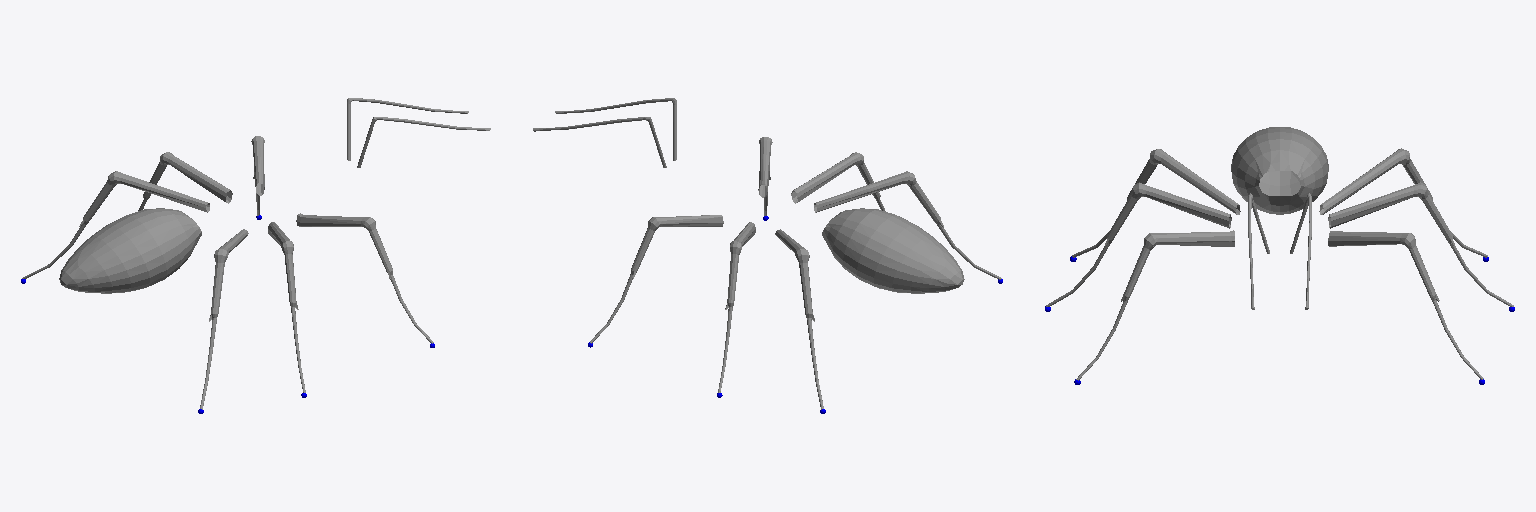
--- Facts derived from the render (not from the file) ---
Views: 3 orthographic renders of the robot side by side, from view 1: azimuth 30°, elevation 25°; view 2: azimuth 150°, elevation 25°; view 3: azimuth 270°, elevation 25°.
Robot: articulated_ant — 73 links, 72 joints (54 revolute, 18 fixed); root link base_link; default pose: every joint at zero.
Links seen in each view (by area): view 1: Abdomen, LBThigh, LMThigh, RFThigh, LFThigh, RBShank; view 2: Abdomen, RBThigh, RMThigh, LFThigh, RFThigh, LBShank; view 3: Abdomen, RMThigh, LMThigh, LBThigh, RBThigh, RFThigh, LFThigh.
Boxes of the visible links, x1,y1,x2,y2 form: Abdomen: (59,208,201,293); LBThigh: (109,171,209,212); LMThigh: (160,152,232,203); RFThigh: (296,213,374,227); LFThigh: (251,136,264,195); RBShank: (210,255,227,316); Abdomen: (822,208,964,293); RBThigh: (814,171,914,212); RMThigh: (791,152,863,203); LFThigh: (649,215,723,227); RFThigh: (758,137,772,197); LBShank: (796,255,813,316); Abdomen: (1231,127,1328,214); RMThigh: (1133,182,1231,228); LMThigh: (1328,182,1426,228); LBThigh: (1319,148,1409,214); RBThigh: (1150,149,1240,214); RFThigh: (1145,230,1234,246); LFThigh: (1328,231,1414,246).
Bounding box of the posed robot: 0.8425 × 0.7066 × 0.3466 m (x, y, z).
23 mesh visuals loaded from 25 distinct referenced files (23 binary STL); not drawn: 2 (reference not matched to a file when rendering).

The robot description file, URDF, robot "articulated_ant":
<?xml version="1.0"?>
<robot name="articulated_ant">

  <material name="Blue"> <!-- for spheres -->
    <color rgba="0 0 1 0.5"/>
  </material>
  <material name="White">
    <color rgba="1 1 1 1"/>
  </material>
  <material name="Gray">
    <color rgba="0.6 0.6 0.6 1"/>
  </material>
  <material name="Green">
    <color rgba="0 0.9 0 0.4"/>
  </material>

  <link name="base_link"/>
  <joint name="base_link_J" type="fixed">
      <parent link="base_link"/>
      <child link="Thorax"/>
      <origin rpy="0 0 1.570796" xyz="0 0 0"/>
   </joint>

  <link name="virtualThorax"/> <!-- for Blender Armature export -->
  <joint name="virtualThorax" type="fixed">
      <parent link="base_link"/>
      <child link="virtualThorax"/>
      <origin rpy="0 0 0" xyz="0 0 0"/>
  </joint>

  <link name="Thorax">
      <inertial>
         <origin rpy="0 0 0" xyz="0 0 0"/>
         <mass value="2"/>
         <inertia ixx="0" ixy="0" ixz="0" iyy="0" iyz="0" izz="0"/>
      </inertial>
      <visual>
         <origin xyz="0 0 0" rpy="0 0 0"/>
         <geometry>
            <mesh filename="package://hpp-rbprm-corba/meshes/ant/Thorax.stl"/>
         </geometry>
         <material name="Gray"/>
      </visual>
      <collision>
         <origin xyz="0 0 0" rpy="0 0 0"/>
         <geometry>
            <mesh filename="package://hpp-rbprm-corba/meshes/ant/Thorax.stl"/>
         </geometry>
      </collision>
   </link>

   <!--<joint name="thorax_foot_rom_joint" type="fixed">
      <parent link="Thorax"/>
      <child link="thorax_foot_rom"/>
      <origin rpy="0 0 0" xyz="0 0 0"/>
   </joint>

  <link name="thorax_foot_rom">
      <visual>
         <origin xyz="0 0 0" rpy="0 0 0"/>
         <geometry>
            <mesh filename="package://hpp-rbprm-corba/meshes/ant/rbfoot_rom.stl"/>
         </geometry>
         <material name="Green"/>
      </visual>
   </link>-->

   <link name="Abdomen_rx"/>
   <link name="Abdomen_ry"/>
   <link name="Abdomen">
      <inertial>
         <origin rpy="0 0 0" xyz="0 0 0"/>
         <mass value="1.5"/>
         <inertia ixx="0" ixy="0" ixz="0" iyy="0" iyz="0" izz="0"/>
      </inertial>
      <visual>
         <origin xyz="0 0 0" rpy="0 0 0"/>
         <geometry>
            <mesh filename="package://hpp-rbprm-corba/meshes/ant/Abdomen.stl"/>
         </geometry>
         <material name="Gray"/>
      </visual>
      <collision>
         <origin xyz="0 0 0" rpy="0 0 0"/>
         <geometry>
            <mesh filename="package://hpp-rbprm-corba/meshes/ant/Abdomen.stl"/>
         </geometry>
      </collision>
   </link>
   <link name="Head_rx"/>
   <link name="Head_ry"/>
   <link name="Head">
      <inertial>
         <origin rpy="0 0 0" xyz="0 0 0"/>
         <mass value="1.3"/>
         <inertia ixx="0.0071027" ixy="-0.00059867" ixz="-2.9564e-05" iyy="0.0046194" iyz="6.6519e-05" izz="0.0080488"/>
      </inertial>
      <visual>
         <origin xyz="0 0 0" rpy="0 0 0"/>
         <geometry>
            <mesh filename="package://hpp-rbprm-corba/meshes/ant/Skull.stl"/>
         </geometry>
         <material name="Gray"/>
      </visual>
      <collision>
         <origin xyz="0 0 0" rpy="0 0 0"/>
         <geometry>
            <mesh filename="package://hpp-rbprm-corba/meshes/ant/Skull.stl"/>
         </geometry>
      </collision>
   </link>

   <link name="LAntena">
      <inertial>
         <origin rpy="0 0 0" xyz="0 0 0"/>
         <mass value="0.05"/>
         <inertia ixx="0.0071027" ixy="-0.00059867" ixz="-2.9564e-05" iyy="0.0046194" iyz="6.6519e-05" izz="0.0080488"/>
      </inertial>
      <visual>
         <origin xyz="0 0 0" rpy="0 0 0"/>
         <geometry>
            <mesh filename="package://hpp-rbprm-corba/meshes/ant/LAntena.stl"/>
         </geometry>
         <material name="Gray"/>
      </visual>
      <collision>
         <origin xyz="0 0 0" rpy="0 0 0"/>
         <geometry>
            <mesh filename="package://hpp-rbprm-corba/meshes/ant/LAntena.stl"/>
         </geometry>
      </collision>
   </link>

   <link name="LAntenaFoot">
      <inertial>
         <origin rpy="0 0 0" xyz="0 0 0"/>
         <mass value="0.05"/>
         <inertia ixx="0.0071027" ixy="-0.00059867" ixz="-2.9564e-05" iyy="0.0046194" iyz="6.6519e-05" izz="0.0080488"/>
      </inertial>
      <visual>
         <origin xyz="0 0 0" rpy="0 0 0"/>
         <geometry>
            <mesh filename="package://hpp-rbprm-corba/meshes/ant/LAntenaFoot.stl"/>
         </geometry>
         <material name="Gray"/>
      </visual>
      <collision>
         <origin xyz="0 0 0" rpy="0 0 0"/>
         <geometry>
            <mesh filename="package://hpp-rbprm-corba/meshes/ant/LAntenaFoot.stl"/>
         </geometry>
      </collision>
   </link>
   
   <link name="RAntena">
      <inertial>
         <origin rpy="0 0 0" xyz="0 0 0"/>
         <mass value="0.05"/>
         <inertia ixx="0.0071027" ixy="-0.00059867" ixz="-2.9564e-05" iyy="0.0046194" iyz="6.6519e-05" izz="0.0080488"/>
      </inertial>
      <visual>
         <origin xyz="0 0 0" rpy="0 0 0"/>
         <geometry>
            <mesh filename="package://hpp-rbprm-corba/meshes/ant/RAntena.stl"/>
         </geometry>
         <material name="Gray"/>
      </visual>
      <collision>
         <origin xyz="0 0 0" rpy="0 0 0"/>
         <geometry>
            <mesh filename="package://hpp-rbprm-corba/meshes/ant/RAntena.stl"/>
         </geometry>
      </collision>
   </link>

   <link name="RAntenaFoot">
      <inertial>
         <origin rpy="0 0 0" xyz="0 0 0"/>
         <mass value="0.05"/>
         <inertia ixx="0.0071027" ixy="-0.00059867" ixz="-2.9564e-05" iyy="0.0046194" iyz="6.6519e-05" izz="0.0080488"/>
      </inertial>
      <visual>
         <origin xyz="0 0 0" rpy="0 0 0"/>
         <geometry>
            <mesh filename="package://hpp-rbprm-corba/meshes/ant/RAntenaFoot.stl"/>
         </geometry>
         <material name="Gray"/>
      </visual>
      <collision>
         <origin xyz="0 0 0" rpy="0 0 0"/>
         <geometry>
            <mesh filename="package://hpp-rbprm-corba/meshes/ant/RAntenaFoot.stl"/>
         </geometry>
      </collision>
   </link>
   
   <!-- L = left, R = right, F = front, M = middle, B = back -->
   <link name="LFThigh_rx"/>
   <link name="LFThigh_ry"/>
   <link name="LFThigh">
      <inertial>
         <origin rpy="0 0 0" xyz="0 0 0"/>
         <mass value="0.3"/>
         <inertia ixx="0.0071027" ixy="-0.00059867" ixz="-2.9564e-05" iyy="0.0046194" iyz="6.6519e-05" izz="0.0080488"/>
      </inertial>
      <visual>
         <origin xyz="0 0 0" rpy="0 0 0"/>
         <geometry>
            <mesh filename="package://hpp-rbprm-corba/meshes/ant/LFThigh.stl"/>
         </geometry>
         <material name="Gray"/>
      </visual>
      <collision>
         <origin xyz="0 0 0" rpy="0 0 0"/>
         <geometry>
            <mesh filename="package://hpp-rbprm-corba/meshes/ant/LFThigh.stl"/>
         </geometry>
      </collision>
   </link>
   
   <link name="LFShank_rx"/>
   <link name="LFShank_ry"/>
   <link name="LFShank">
      <inertial>
         <origin rpy="0 0 0" xyz="0 0 0"/>
         <mass value="0.2"/>
         <inertia ixx="0.0071027" ixy="-0.00059867" ixz="-2.9564e-05" iyy="0.0046194" iyz="6.6519e-05" izz="0.0080488"/>
      </inertial>
      <visual>
         <origin xyz="0 0 0" rpy="0 0 0"/>
         <geometry>
            <mesh filename="package://hpp-rbprm-corba/meshes/ant/LFShank.stl"/>
         </geometry>
         <material name="Gray"/>
      </visual>
      <collision>
         <origin xyz="0 0 0" rpy="0 0 0"/>
         <geometry>
            <mesh filename="package://hpp-rbprm-corba/meshes/ant/LFShank.stl"/>
         </geometry>
      </collision>
   </link>
   
   <link name="LFFoot_rx"/>
   <link name="LFFoot_ry"/>
   <link name="LFFoot">
      <inertial>
         <origin rpy="0 0 0" xyz="0 0 0"/>
         <mass value="0.1"/>
         <inertia ixx="0.0071027" ixy="-0.00059867" ixz="-2.9564e-05" iyy="0.0046194" iyz="6.6519e-05" izz="0.0080488"/>
      </inertial>
      <visual>
         <origin xyz="0 0 0" rpy="0 0 0"/>
         <geometry>
            <mesh filename="package://hpp-rbprm-corba/meshes/ant/LFFoot.stl"/>
         </geometry>
         <material name="Gray"/>
      </visual>
      <collision>
         <origin xyz="0 0 0" rpy="0 0 0"/>
         <geometry>
            <mesh filename="package://hpp-rbprm-corba/meshes/ant/LFFoot.stl"/>
         </geometry>
      </collision>
   </link>
   
   <link name="LMThigh_rx"/>
   <link name="LMThigh_ry"/>
   <link name="LMThigh">
      <inertial>
         <origin rpy="0 0 0" xyz="0 0 0"/>
         <mass value="0.3"/>
         <inertia ixx="0.0071027" ixy="-0.00059867" ixz="-2.9564e-05" iyy="0.0046194" iyz="6.6519e-05" izz="0.0080488"/>
      </inertial>
      <visual>
         <origin xyz="0 0 0" rpy="0 0 0"/>
         <geometry>
            <mesh filename="package://hpp-rbprm-corba/meshes/ant/LMThigh.stl"/>
         </geometry>
         <material name="Gray"/>
      </visual>
      <collision>
         <origin xyz="0 0 0" rpy="0 0 0"/>
         <geometry>
            <mesh filename="package://hpp-rbprm-corba/meshes/ant/LMThigh.stl"/>
         </geometry>
      </collision>
   </link>
   
   <link name="LMShank_rx"/>
   <link name="LMShank_ry"/>
   <link name="LMShank">
      <inertial>
         <origin rpy="0 0 0" xyz="0 0 0"/>
         <mass value="0.2"/>
         <inertia ixx="0.0071027" ixy="-0.00059867" ixz="-2.9564e-05" iyy="0.0046194" iyz="6.6519e-05" izz="0.0080488"/>
      </inertial>
      <visual>
         <origin xyz="0 0 0" rpy="0 0 0"/>
         <geometry>
            <mesh filename="package://hpp-rbprm-corba/meshes/ant/LMShank.stl"/>
         </geometry>
         <material name="Gray"/>
      </visual>
      <collision>
         <origin xyz="0 0 0" rpy="0 0 0"/>
         <geometry>
            <mesh filename="package://hpp-rbprm-corba/meshes/ant/LMShank.stl"/>
         </geometry>
      </collision>
   </link>
   
   <link name="LMFoot_rx"/>
   <link name="LMFoot_ry"/>
   <link name="LMFoot">
      <inertial>
         <origin rpy="0 0 0" xyz="0 0 0"/>
         <mass value="0.1"/>
         <inertia ixx="0.0071027" ixy="-0.00059867" ixz="-2.9564e-05" iyy="0.0046194" iyz="6.6519e-05" izz="0.0080488"/>
      </inertial>
      <visual>
         <origin xyz="0 0 0" rpy="0 0 0"/>
         <geometry>
            <mesh filename="package://hpp-rbprm-corba/meshes/ant/LMFoot.stl"/>
         </geometry>
         <material name="Gray"/>
      </visual>
      <collision>
         <origin xyz="0 0 0" rpy="0 0 0"/>
         <geometry>
            <mesh filename="package://hpp-rbprm-corba/meshes/ant/LMFoot.stl"/>
         </geometry>
      </collision>
   </link>
   
   <link name="LBThigh_rx"/>
   <link name="LBThigh_ry"/>
   <link name="LBThigh">
      <inertial>
         <origin rpy="0 0 0" xyz="0 0 0"/>
         <mass value="0.3"/>
         <inertia ixx="0.0071027" ixy="-0.00059867" ixz="-2.9564e-05" iyy="0.0046194" iyz="6.6519e-05" izz="0.0080488"/>
      </inertial>
      <visual>
         <origin xyz="0 0 0" rpy="0 0 0"/>
         <geometry>
            <mesh filename="package://hpp-rbprm-corba/meshes/ant/LBThigh.stl"/>
         </geometry>
         <material name="Gray"/>
      </visual>
      <collision>
         <origin xyz="0 0 0" rpy="0 0 0"/>
         <geometry>
            <mesh filename="package://hpp-rbprm-corba/meshes/ant/LBThigh.stl"/>
         </geometry>
      </collision>
   </link>
   
   <link name="LBShank_rx"/>
   <link name="LBShank_ry"/>
   <link name="LBShank">
      <inertial>
         <origin rpy="0 0 0" xyz="0 0 0"/>
         <mass value="0.2"/>
         <inertia ixx="0.0071027" ixy="-0.00059867" ixz="-2.9564e-05" iyy="0.0046194" iyz="6.6519e-05" izz="0.0080488"/>
      </inertial>
      <visual>
         <origin xyz="0 0 0" rpy="0 0 0"/>
         <geometry>
            <mesh filename="package://hpp-rbprm-corba/meshes/ant/LBShank.stl"/>
         </geometry>
         <material name="Gray"/>
      </visual>
      <collision>
         <origin xyz="0 0 0" rpy="0 0 0"/>
         <geometry>
            <mesh filename="package://hpp-rbprm-corba/meshes/ant/LBShank.stl"/>
         </geometry>
      </collision>
   </link>
   
   <link name="LBFoot_rx"/>
   <link name="LBFoot_ry"/>
   <link name="LBFoot">
      <inertial>
         <origin rpy="0 0 0" xyz="0 0 0"/>
         <mass value="0.1"/>
         <inertia ixx="0.0071027" ixy="-0.00059867" ixz="-2.9564e-05" iyy="0.0046194" iyz="6.6519e-05" izz="0.0080488"/>
      </inertial>
      <visual>
         <origin xyz="0 0 0" rpy="0 0 0"/>
         <geometry>
            <mesh filename="package://hpp-rbprm-corba/meshes/ant/LBFoot.stl"/>
         </geometry>
         <material name="Gray"/>
      </visual>
      <collision>
         <origin xyz="0 0 0" rpy="0 0 0"/>
         <geometry>
            <mesh filename="package://hpp-rbprm-corba/meshes/ant/LBFoot.stl"/>
         </geometry>
      </collision>
   </link>
   
      <link name="RFThigh_rx"/>
   <link name="RFThigh_ry"/>
   <link name="RFThigh">
      <inertial>
         <origin rpy="0 0 0" xyz="0 0 0"/>
         <mass value="0.3"/>
         <inertia ixx="0.0071027" ixy="-0.00059867" ixz="-2.9564e-05" iyy="0.0046194" iyz="6.6519e-05" izz="0.0080488"/>
      </inertial>
      <visual>
         <origin xyz="0 0 0" rpy="0 0 0"/>
         <geometry>
            <mesh filename="package://hpp-rbprm-corba/meshes/ant/RFThigh.stl"/>
         </geometry>
         <material name="Gray"/>
      </visual>
      <collision>
         <origin xyz="0 0 0" rpy="0 0 0"/>
         <geometry>
            <mesh filename="package://hpp-rbprm-corba/meshes/ant/RFThigh.stl"/>
         </geometry>
      </collision>
   </link>
   
   <link name="RFShank_rx"/>
   <link name="RFShank_ry"/>
   <link name="RFShank">
      <inertial>
         <origin rpy="0 0 0" xyz="0 0 0"/>
         <mass value="0.2"/>
         <inertia ixx="0.0071027" ixy="-0.00059867" ixz="-2.9564e-05" iyy="0.0046194" iyz="6.6519e-05" izz="0.0080488"/>
      </inertial>
      <visual>
         <origin xyz="0 0 0" rpy="0 0 0"/>
         <geometry>
            <mesh filename="package://hpp-rbprm-corba/meshes/ant/RFShank.stl"/>
         </geometry>
         <material name="Gray"/>
      </visual>
      <collision>
         <origin xyz="0 0 0" rpy="0 0 0"/>
         <geometry>
            <mesh filename="package://hpp-rbprm-corba/meshes/ant/RFShank.stl"/>
         </geometry>
      </collision>
   </link>
   
   <link name="RFFoot_rx"/>
   <link name="RFFoot_ry"/>
   <link name="RFFoot">
      <inertial>
         <origin rpy="0 0 0" xyz="0 0 0"/>
         <mass value="0.1"/>
         <inertia ixx="0.0071027" ixy="-0.00059867" ixz="-2.9564e-05" iyy="0.0046194" iyz="6.6519e-05" izz="0.0080488"/>
      </inertial>
      <visual>
         <origin xyz="0 0 0" rpy="0 0 0"/>
         <geometry>
            <mesh filename="package://hpp-rbprm-corba/meshes/ant/RFFoot.stl"/>
         </geometry>
         <material name="Gray"/>
      </visual>
      <collision>
         <origin xyz="0 0 0" rpy="0 0 0"/>
         <geometry>
            <mesh filename="package://hpp-rbprm-corba/meshes/ant/RFFoot.stl"/>
         </geometry>
      </collision>
   </link>
   
   <link name="RMThigh_rx"/>
   <link name="RMThigh_ry"/>
   <link name="RMThigh">
      <inertial>
         <origin rpy="0 0 0" xyz="0 0 0"/>
         <mass value="0.3"/>
         <inertia ixx="0.0071027" ixy="-0.00059867" ixz="-2.9564e-05" iyy="0.0046194" iyz="6.6519e-05" izz="0.0080488"/>
      </inertial>
      <visual>
         <origin xyz="0 0 0" rpy="0 0 0"/>
         <geometry>
            <mesh filename="package://hpp-rbprm-corba/meshes/ant/RMThigh.stl"/>
         </geometry>
         <material name="Gray"/>
      </visual>
      <collision>
         <origin xyz="0 0 0" rpy="0 0 0"/>
         <geometry>
            <mesh filename="package://hpp-rbprm-corba/meshes/ant/RMThigh.stl"/>
         </geometry>
      </collision>
   </link>
   
   <link name="RMShank_rx"/>
   <link name="RMShank_ry"/>
   <link name="RMShank">
      <inertial>
         <origin rpy="0 0 0" xyz="0 0 0"/>
         <mass value="0.2"/>
         <inertia ixx="0.0071027" ixy="-0.00059867" ixz="-2.9564e-05" iyy="0.0046194" iyz="6.6519e-05" izz="0.0080488"/>
      </inertial>
      <visual>
         <origin xyz="0 0 0" rpy="0 0 0"/>
         <geometry>
            <mesh filename="package://hpp-rbprm-corba/meshes/ant/RMShank.stl"/>
         </geometry>
         <material name="Gray"/>
      </visual>
      <collision>
         <origin xyz="0 0 0" rpy="0 0 0"/>
         <geometry>
            <mesh filename="package://hpp-rbprm-corba/meshes/ant/RMShank.stl"/>
         </geometry>
      </collision>
   </link>
   
   <link name="RMFoot_rx"/>
   <link name="RMFoot_ry"/>
   <link name="RMFoot">
      <inertial>
         <origin rpy="0 0 0" xyz="0 0 0"/>
         <mass value="0.1"/>
         <inertia ixx="0.0071027" ixy="-0.00059867" ixz="-2.9564e-05" iyy="0.0046194" iyz="6.6519e-05" izz="0.0080488"/>
      </inertial>
      <visual>
         <origin xyz="0 0 0" rpy="0 0 0"/>
         <geometry>
            <mesh filename="package://hpp-rbprm-corba/meshes/ant/RMFoot.stl"/>
         </geometry>
         <material name="Gray"/>
      </visual>
      <collision>
         <origin xyz="0 0 0" rpy="0 0 0"/>
         <geometry>
            <mesh filename="package://hpp-rbprm-corba/meshes/ant/RMFoot.stl"/>
         </geometry>
      </collision>
   </link>
   
   <link name="RBThigh_rx"/>
   <link name="RBThigh_ry"/>
   <link name="RBThigh">
      <inertial>
         <origin rpy="0 0 0" xyz="0 0 0"/>
         <mass value="0.3"/>
         <inertia ixx="0.0071027" ixy="-0.00059867" ixz="-2.9564e-05" iyy="0.0046194" iyz="6.6519e-05" izz="0.0080488"/>
      </inertial>
      <visual>
         <origin xyz="0 0 0" rpy="0 0 0"/>
         <geometry>
            <mesh filename="package://hpp-rbprm-corba/meshes/ant/RBThigh.stl"/>
         </geometry>
         <material name="Gray"/>
      </visual>
      <collision>
         <origin xyz="0 0 0" rpy="0 0 0"/>
         <geometry>
            <mesh filename="package://hpp-rbprm-corba/meshes/ant/RBThigh.stl"/>
         </geometry>
      </collision>
   </link>
   
   <link name="RBShank_rx"/>
   <link name="RBShank_ry"/>
   <link name="RBShank">
      <inertial>
         <origin rpy="0 0 0" xyz="0 0 0"/>
         <mass value="0.2"/>
         <inertia ixx="0.0071027" ixy="-0.00059867" ixz="-2.9564e-05" iyy="0.0046194" iyz="6.6519e-05" izz="0.0080488"/>
      </inertial>
      <visual>
         <origin xyz="0 0 0" rpy="0 0 0"/>
         <geometry>
            <mesh filename="package://hpp-rbprm-corba/meshes/ant/RBShank.stl"/>
         </geometry>
         <material name="Gray"/>
      </visual>
      <collision>
         <origin xyz="0 0 0" rpy="0 0 0"/>
         <geometry>
            <mesh filename="package://hpp-rbprm-corba/meshes/ant/RBShank.stl"/>
         </geometry>
      </collision>
   </link>
   
   <link name="RBFoot_rx"/>
   <link name="RBFoot_ry"/>
   <link name="RBFoot">
      <inertial>
         <origin rpy="0 0 0" xyz="0 0 0"/>
         <mass value="0.1"/>
         <inertia ixx="0.0071027" ixy="-0.00059867" ixz="-2.9564e-05" iyy="0.0046194" iyz="6.6519e-05" izz="0.0080488"/>
      </inertial>
      <visual>
         <origin xyz="0 0 0" rpy="0 0 0"/>
         <geometry>
            <mesh filename="package://hpp-rbprm-corba/meshes/ant/RBFoot.stl"/>
         </geometry>
         <material name="Gray"/>
      </visual>
      <collision>
         <origin xyz="0 0 0" rpy="0 0 0"/>
         <geometry>
            <mesh filename="package://hpp-rbprm-corba/meshes/ant/RBFoot.stl"/>
         </geometry>
      </collision>
   </link>

   <!-- end-effector spheres -->
  <link name="LFFootSphere">
      <visual>
         <origin xyz="0 0 0" rpy="0 0 0"/>
         <geometry>
            <sphere radius="0.005"/>
         </geometry>
         <material name="Blue"/>
      </visual>
   </link>
  <link name="LMFootSphere">
      <visual>
         <origin xyz="0 0 0" rpy="0 0 0"/>
         <geometry>
            <sphere radius="0.005"/>
         </geometry>
         <material name="Blue"/>
      </visual>
   </link>
  <link name="LBFootSphere">
      <visual>
         <origin xyz="0 0 0" rpy="0 0 0"/>
         <geometry>
            <sphere radius="0.005"/>
         </geometry>
         <material name="Blue"/>
      </visual>
   </link>
  <link name="RFFootSphere">
      <visual>
         <origin xyz="0 0 0" rpy="0 0 0"/>
         <geometry>
            <sphere radius="0.005"/>
         </geometry>
         <material name="Blue"/>
      </visual>
   </link>
  <link name="RMFootSphere">
      <visual>
         <origin xyz="0 0 0" rpy="0 0 0"/>
         <geometry>
            <sphere radius="0.005"/>
         </geometry>
         <material name="Blue"/>
      </visual>
   </link>
  <link name="RBFootSphere">
      <visual>
         <origin xyz="0 0 0" rpy="0 0 0"/>
         <geometry>
            <sphere radius="0.005"/>
         </geometry>
         <material name="Blue"/>
      </visual>
   </link>

   <!-- JOINTS -->
  <joint name="Abdomen_rx" type="revolute">
      <parent link="Thorax"/>
      <child link="Abdomen_rx"/>
      <origin rpy="0 0 0" xyz="0 0.1203 -0.0006"/>
      <axis xyz="1 0 0"/>
      <limit effort="0" lower="-0.2" upper="0.2" velocity="1.0"/>
   </joint>
   <joint name="Abdomen_ry" type="revolute">
      <parent link="Abdomen_rx"/>
      <child link="Abdomen_ry"/>
      <origin rpy="0 0 0" xyz="0 0 0"/>
      <axis xyz="0 1 0"/>
      <limit effort="0" lower="-0.2" upper="0.2" velocity="1.0"/>
   </joint>
   <joint name="Abdomen_rz" type="revolute">
      <parent link="Abdomen_rx"/>
      <child link="Abdomen"/>
      <origin rpy="0 0 0" xyz="0 0 0"/>
      <axis xyz="0 0 1"/>
      <limit effort="0" lower="-0.2" upper="0.2" velocity="1.0"/>
   </joint>
   <joint name="Head_rx" type="revolute">
      <parent link="Thorax"/>
      <child link="Head_rx"/>
      <origin rpy="0 0 0" xyz="0 -0.1029 0.0142"/>
      <axis xyz="1 0 0"/>
      <limit effort="0" lower="-0.2" upper="0.2" velocity="1.0"/>
   </joint>
   <joint name="Head_ry" type="revolute">
      <parent link="Head_rx"/>
      <child link="Head_ry"/>
      <origin rpy="0 0 0" xyz="0 0 0"/>
      <axis xyz="0 1 0"/>
      <limit effort="0" lower="-0.2" upper="0.2" velocity="1.0"/>
   </joint>
   <joint name="Head_rz" type="revolute">
      <parent link="Head_ry"/>
      <child link="Head"/>
      <origin rpy="0 0 0" xyz="0 0 0"/>
      <axis xyz="0 0 1"/>
      <limit effort="0" lower="-0.2" upper="0.2" velocity="1.0"/>
   </joint>
   
   <joint name="LAntena" type="fixed">
      <parent link="Head"/>
      <child link="LAntena"/>
      <origin rpy="0 0 0" xyz="0.0176 -0.1027 0.0225"/>
   </joint>
   <joint name="LAntenaFoot" type="fixed">
      <parent link="LAntena"/>
      <child link="LAntenaFoot"/>
      <origin rpy="0 0 0" xyz="0.0267 -0.0198 0.1006"/>
   </joint>
   
   <joint name="RAntena" type="fixed">
      <parent link="Head"/>
      <child link="RAntena"/>
      <origin rpy="0 0 0" xyz="-0.0168 -0.1029 0.0226"/>
   </joint>
   <joint name="RAntenaFoot" type="fixed">
      <parent link="RAntena"/>
      <child link="RAntenaFoot"/>
      <origin rpy="0 0 0" xyz="-0.0279 -0.0202 0.1006"/>
   </joint>

   
   <!-- left side -->
   <joint name="LFThigh_rx" type="revolute">
      <parent link="Thorax"/>
      <child link="LFThigh_rx"/>
      <origin rpy="0 0 0" xyz="0.0743 -0.0605 -0.0092"/>
      <axis xyz="1 0 0"/>
      <limit effort="0" lower="-1.2" upper="1.2" velocity="1.0"/>
   </joint>
   <joint name="LFThigh_ry" type="revolute">
      <parent link="LFThigh_rx"/>
      <child link="LFThigh_ry"/>
      <origin rpy="0 0 0" xyz="0 0 0"/>
      <axis xyz="0 1 0"/>
      <limit effort="0" lower="-1" upper="1.2" velocity="1.0"/>
   </joint>
   <joint name="LFThigh_rz" type="revolute">
      <parent link="LFThigh_ry"/>
      <child link="LFThigh"/>
      <origin rpy="0 0 0" xyz="0 0 0"/>
      <axis xyz="0 0 1"/>
      <limit effort="0" lower="-0.7" upper="0.7" velocity="1.0"/>
   </joint>
   <joint name="LFShank_rx" type="fixed">
      <parent link="LFThigh"/>
      <child link="LFShank_rx"/>
      <origin rpy="0 0 0" xyz="0.1217 -0.0662 0.0268"/>
      <!--<axis xyz="1 0 0"/>-->
      <!--<limit effort="0" lower="-0.4" upper="0.4" velocity="1.0"/>-->
   </joint>
   <joint name="LFShank_ry" type="revolute">
      <parent link="LFShank_rx"/>
      <child link="LFShank_ry"/>
      <origin rpy="0 0 0" xyz="0 0 0"/>
      <axis xyz="0 1 0"/>
      <limit effort="0" lower="-1" upper="1" velocity="1.0"/>
   </joint>
   <joint name="LFShank_rz" type="revolute">
      <parent link="LFShank_ry"/>
      <child link="LFShank"/>
      <origin rpy="0 0 0" xyz="0 0 0"/>
      <axis xyz="0 0 1"/>
      <limit effort="0" lower="-0.8" upper="0.8" velocity="1.0"/>
   </joint>
   <joint name="LFFoot_rx" type="revolute">
      <parent link="LFShank"/>
      <child link="LFFoot_rx"/>
      <origin rpy="0 0 0" xyz="0.0349 -0.0208 -0.0839"/>
      <axis xyz="1 0 0"/>
      <limit effort="0" lower="-0.4" upper="0.4" velocity="1.0"/>
   </joint>
   <joint name="LFFoot_ry" type="revolute">
      <parent link="LFFoot_rx"/>
      <child link="LFFoot_ry"/>
      <origin rpy="0 0 0" xyz="0 0 0"/>
      <axis xyz="0 1 0"/>
      <limit effort="0" lower="-0.2" upper="0.2" velocity="1.0"/>
   </joint>
   <joint name="LFFoot_rz" type="revolute">
      <parent link="LFFoot_ry"/>
      <child link="LFFoot"/>
      <origin rpy="0 0 0" xyz="0 0 0"/>
      <axis xyz="0 0 1"/>
      <limit effort="0" lower="-0.2" upper="0.2" velocity="1.0"/>
   </joint>
   
   <joint name="LMThigh_rx" type="revolute">
      <parent link="Thorax"/>
      <child link="LMThigh_rx"/>
      <origin rpy="0 0 0" xyz="0.0747 0.0011 -0.0074"/>
      <axis xyz="1 0 0"/>
      <limit effort="0" lower="-1.2" upper="1.2" velocity="1.0"/>
   </joint>
   <joint name="LMThigh_ry" type="revolute">
      <parent link="LMThigh_rx"/>
      <child link="LMThigh_ry"/>
      <origin rpy="0 0 0" xyz="0 0 0"/>
      <axis xyz="0 1 0"/>
      <limit effort="0" lower="-1" upper="1.2" velocity="1.0"/>
   </joint>
   <joint name="LMThigh_rz" type="revolute">
      <parent link="LMThigh_ry"/>
      <child link="LMThigh"/>
      <origin rpy="0 0 0" xyz="0 0 0"/>
      <axis xyz="0 0 1"/>
      <limit effort="0" lower="-0.7" upper="0.7" velocity="1.0"/>
   </joint>
   <joint name="LMShank_rx" type="fixed">
      <parent link="LMThigh"/>
      <child link="LMShank_rx"/>
      <origin rpy="0 0 0" xyz="0.1391 0.0483 0.0267"/>
      <!--<axis xyz="1 0 0"/>-->
      <!--<limit effort="0" lower="-0.4" upper="0.4" velocity="1.0"/>-->
   </joint>
   <joint name="LMShank_ry" type="revolute">
      <parent link="LMShank_rx"/>
      <child link="LMShank_ry"/>
      <origin rpy="0 0 0" xyz="0 0 0"/>
      <axis xyz="0 1 0"/>
      <limit effort="0" lower="-1" upper="1" velocity="1.0"/>
   </joint>
   <joint name="LMShank_rz" type="revolute">
      <parent link="LMShank_ry"/>
      <child link="LMShank"/>
      <origin rpy="0 0 0" xyz="0 0 0"/>
      <axis xyz="0 0 1"/>
      <limit effort="0" lower="-0.8" upper="0.8" velocity="1.0"/>
   </joint>
   <joint name="LMFoot_rx" type="revolute">
      <parent link="LMShank"/>
      <child link="LMFoot_rx"/>
      <origin rpy="0 0 0" xyz="0.0420 0.0142 -0.0892"/>
      <axis xyz="1 0 0"/>
      <limit effort="0" lower="-0.2" upper="0.2" velocity="1.0"/>
   </joint>
   <joint name="LMFoot_ry" type="revolute">
      <parent link="LMFoot_rx"/>
      <child link="LMFoot_ry"/>
      <origin rpy="0 0 0" xyz="0 0 0"/>
      <axis xyz="0 1 0"/>
      <limit effort="0" lower="-0.4" upper="0.4" velocity="1.0"/>
   </joint>
   <joint name="LMFoot_rz" type="revolute">
      <parent link="LMFoot_ry"/>
      <child link="LMFoot"/>
      <origin rpy="0 0 0" xyz="0 0 0"/>
      <axis xyz="0 0 1"/>
      <limit effort="0" lower="-0.2" upper="0.2" velocity="1.0"/>
   </joint>
   
   <joint name="LBThigh_rx" type="revolute">
      <parent link="Thorax"/>
      <child link="LBThigh_rx"/>
      <origin rpy="0 0 0" xyz="0.0624 0.0506 -0.0127"/>
      <axis xyz="1 0 0"/>
      <limit effort="0" lower="-1.2" upper="1.2" velocity="1.0"/>
   </joint>
   <joint name="LBThigh_ry" type="revolute">
      <parent link="LBThigh_rx"/>
      <child link="LBThigh_ry"/>
      <origin rpy="0 0 0" xyz="0 0 0"/>
      <axis xyz="0 1 0"/>
      <limit effort="0" lower="-1" upper="1.2" velocity="1.0"/>
   </joint>
   <joint name="LBThigh_rz" type="revolute">
      <parent link="LBThigh_ry"/>
      <child link="LBThigh"/>
      <origin rpy="0 0 0" xyz="0 0 0"/>
      <axis xyz="0 0 1"/>
      <limit effort="0" lower="-0.7" upper="0.7" velocity="1.0"/>
   </joint>
   <joint name="LBShank_rx" type="fixed">
      <parent link="LBThigh"/>
      <child link="LBShank_rx"/>
      <origin rpy="0 0 0" xyz="0.1238 0.1183 0.0330"/>
      <!--<axis xyz="1 0 0"/>-->
      <!--<limit effort="0" lower="-0.4" upper="0.4" velocity="1.0"/>-->
   </joint>
   <joint name="LBShank_ry" type="revolute">
      <parent link="LBShank_rx"/>
      <child link="LBShank_ry"/>
      <origin rpy="0 0 0" xyz="0 0 0"/>
      <axis xyz="0 1 0"/>
      <limit effort="0" lower="-1" upper="1" velocity="1.0"/>
   </joint>
   <joint name="LBShank_rz" type="revolute">
      <parent link="LBShank_ry"/>
      <child link="LBShank"/>
      <origin rpy="0 0 0" xyz="0 0 0"/>
      <axis xyz="0 0 1"/>
      <limit effort="0" lower="-0.8" upper="0.8" velocity="1.0"/>
   </joint>
   <joint name="LBFoot_rx" type="revolute">
      <parent link="LBShank"/>
      <child link="LBFoot_rx"/>
      <origin rpy="0 0 0" xyz="0.0387 0.0341 -0.0900"/>
      <axis xyz="1 0 0"/>
      <limit effort="0" lower="-0.2" upper="0.2" velocity="1.0"/>
   </joint>
   <joint name="LBFoot_ry" type="revolute">
      <parent link="LBFoot_rx"/>
      <child link="LBFoot_ry"/>
      <origin rpy="0 0 0" xyz="0 0 0"/>
      <axis xyz="0 1 0"/>
      <limit effort="0" lower="-0.4" upper="0.4" velocity="1.0"/>
   </joint>
   <joint name="LBFoot_rz" type="revolute">
      <parent link="LBFoot_ry"/>
      <child link="LBFoot"/>
      <origin rpy="0 0 0" xyz="0 0 0"/>
      <axis xyz="0 0 1"/>
      <limit effort="0" lower="-0.2" upper="0.2" velocity="1.0"/>
   </joint>
   
   <!-- right side -->
   <joint name="RFThigh_rx" type="revolute">
      <parent link="Thorax"/>
      <child link="RFThigh_rx"/>
      <origin rpy="0 0 0" xyz="-0.0703 -0.0587 -0.0088"/>
      <axis xyz="1 0 0"/>
      <limit effort="0" lower="-1.2" upper="1.2" velocity="1.0"/>
   </joint>
   <joint name="RFThigh_ry" type="revolute">
      <parent link="RFThigh_rx"/>
      <child link="RFThigh_ry"/>
      <origin rpy="0 0 0" xyz="0 0 0"/>
      <axis xyz="0 1 0"/>
      <limit effort="0" lower="-1.2" upper="1" velocity="1.0"/>
   </joint>
   <joint name="RFThigh_rz" type="revolute">
      <parent link="RFThigh_ry"/>
      <child link="RFThigh"/>
      <origin rpy="0 0 0" xyz="0 0 0"/>
      <axis xyz="0 0 1"/>
      <limit effort="0" lower="-0.7" upper="0.7" velocity="1.0"/>
   </joint>
   <joint name="RFShank_rx" type="fixed">
      <parent link="RFThigh"/>
      <child link="RFShank_rx"/>
      <origin rpy="0 0 0" xyz="-0.1258 -0.0680 0.0258"/>
      <!--<axis xyz="1 0 0"/>-->
      <!--<limit effort="0" lower="-0.4" upper="0.4" velocity="1.0"/>-->
   </joint>
   <joint name="RFShank_ry" type="revolute">
      <parent link="RFShank_rx"/>
      <child link="RFShank_ry"/>
      <origin rpy="0 0 0" xyz="0 0 0"/>
      <axis xyz="0 1 0"/>
      <limit effort="0" lower="-1.2" upper="1" velocity="1.0"/>
   </joint>
   <joint name="RFShank_rz" type="revolute">
      <parent link="RFShank_ry"/>
      <child link="RFShank"/>
      <origin rpy="0 0 0" xyz="0 0 0"/>
      <axis xyz="0 0 1"/>
      <limit effort="0" lower="-0.8" upper="0.8" velocity="1.0"/>
   </joint>
   <joint name="RFFoot_rx" type="revolute">
      <parent link="RFShank"/>
      <child link="RFFoot_rx"/>
      <origin rpy="0 0 0" xyz="-0.0347 -0.0205 -0.0847"/>
      <axis xyz="1 0 0"/>
      <limit effort="0" lower="-0.2" upper="0.2" velocity="1.0"/>
   </joint>
   <joint name="RFFoot_ry" type="revolute">
      <parent link="RFFoot_rx"/>
      <child link="RFFoot_ry"/>
      <origin rpy="0 0 0" xyz="0 0 0"/>
      <axis xyz="0 1 0"/>
      <limit effort="0" lower="-0.4" upper="0.4" velocity="1.0"/>
   </joint>
   <joint name="RFFoot_rz" type="revolute">
      <parent link="RFFoot_ry"/>
      <child link="RFFoot"/>
      <origin rpy="0 0 0" xyz="0 0 0"/>
      <axis xyz="0 0 1"/>
      <limit effort="0" lower="-0.2" upper="0.2" velocity="1.0"/>
   </joint>
   
   <joint name="RMThigh_rx" type="revolute">
      <parent link="Thorax"/>
      <child link="RMThigh_rx"/>
      <origin rpy="0 0 0" xyz="-0.0746 0.0016 -0.0073"/>
      <axis xyz="1 0 0"/>
      <limit effort="0" lower="-1.2" upper="1.2" velocity="1.0"/>
   </joint>
   <joint name="RMThigh_ry" type="revolute">
      <parent link="RMThigh_rx"/>
      <child link="RMThigh_ry"/>
      <origin rpy="0 0 0" xyz="0 0 0"/>
      <axis xyz="0 1 0"/>
      <limit effort="0" lower="-1.2" upper="1" velocity="1.0"/>
   </joint>
   <joint name="RMThigh_rz" type="revolute">
      <parent link="RMThigh_ry"/>
      <child link="RMThigh"/>
      <origin rpy="0 0 0" xyz="0 0 0"/>
      <axis xyz="0 0 1"/>
      <limit effort="0" lower="-0.7" upper="0.7" velocity="1.0"/>
   </joint>
   <joint name="RMShank_rx" type="fixed">
      <parent link="RMThigh"/>
      <child link="RMShank_rx"/>
      <origin rpy="0 0 0" xyz="-0.1387 0.0501 0.0266"/>
      <!--<axis xyz="1 0 0"/>-->
      <!--<limit effort="0" lower="-0.4" upper="0.4" velocity="1.0"/>-->
   </joint>
   <joint name="RMShank_ry" type="revolute">
      <parent link="RMShank_rx"/>
      <child link="RMShank_ry"/>
      <origin rpy="0 0 0" xyz="0 0 0"/>
      <axis xyz="0 1 0"/>
      <limit effort="0" lower="-1.2" upper="1" velocity="1.0"/>
   </joint>
   <joint name="RMShank_rz" type="revolute">
      <parent link="RMShank_ry"/>
      <child link="RMShank"/>
      <origin rpy="0 0 0" xyz="0 0 0"/>
      <axis xyz="0 0 1"/>
      <limit effort="0" lower="-0.8" upper="0.8" velocity="1.0"/>
   </joint>
   <joint name="RMFoot_rx" type="revolute">
      <parent link="RMShank"/>
      <child link="RMFoot_rx"/>
      <origin rpy="0 0 0" xyz="-0.0427 0.0128 -0.0895"/>
      <axis xyz="1 0 0"/>
      <limit effort="0" lower="-0.2" upper="0.2" velocity="1.0"/>
   </joint>
   <joint name="RMFoot_ry" type="revolute">
      <parent link="RMFoot_rx"/>
      <child link="RMFoot_ry"/>
      <origin rpy="0 0 0" xyz="0 0 0"/>
      <axis xyz="0 1 0"/>
      <limit effort="0" lower="-0.4" upper="0.4" velocity="1.0"/>
   </joint>
   <joint name="RMFoot_rz" type="revolute">
      <parent link="RMFoot_ry"/>
      <child link="RMFoot"/>
      <origin rpy="0 0 0" xyz="0 0 0"/>
      <axis xyz="0 0 1"/>
      <limit effort="0" lower="-0.2" upper="0.2" velocity="1.0"/>
   </joint>
   
   <joint name="RBThigh_rx" type="revolute">
      <parent link="Thorax"/>
      <child link="RBThigh_rx"/>
      <origin rpy="0 0 0" xyz="-0.0623 0.0509 -0.0132"/>
      <axis xyz="1 0 0"/>
      <limit effort="0" lower="-1.2" upper="1.2" velocity="1.0"/>
   </joint>
   <joint name="RBThigh_ry" type="revolute">
      <parent link="RBThigh_rx"/>
      <child link="RBThigh_ry"/>
      <origin rpy="0 0 0" xyz="0 0 0"/>
      <axis xyz="0 1 0"/>
      <limit effort="0" lower="-1.2" upper="1" velocity="1.0"/>
   </joint>
   <joint name="RBThigh_rz" type="revolute">
      <parent link="RBThigh_ry"/>
      <child link="RBThigh"/>
      <origin rpy="0 0 0" xyz="0 0 0"/>
      <axis xyz="0 0 1"/>
      <limit effort="0" lower="-0.7" upper="0.7" velocity="1.0"/>
   </joint>
   <joint name="RBShank_rx" type="fixed">
      <parent link="RBThigh"/>
      <child link="RBShank_rx"/>
      <origin rpy="0 0 0" xyz="-0.1239 0.1180 0.0334"/>
      <!--<axis xyz="1 0 0"/>-->
      <!--<limit effort="0" lower="-0.4" upper="0.4" velocity="1.0"/>-->
   </joint>
   <joint name="RBShank_ry" type="revolute">
      <parent link="RBShank_rx"/>
      <child link="RBShank_ry"/>
      <origin rpy="0 0 0" xyz="0 0 0"/>
      <axis xyz="0 1 0"/>
      <limit effort="0" lower="-1.2" upper="1" velocity="1.0"/>
   </joint>
   <joint name="RBShank_rz" type="revolute">
      <parent link="RBShank_ry"/>
      <child link="RBShank"/>
      <origin rpy="0 0 0" xyz="0 0 0"/>
      <axis xyz="0 0 1"/>
      <limit effort="0" lower="-0.8" upper="0.8" velocity="1.0"/>
   </joint>
   <joint name="RBFoot_rx" type="revolute">
      <parent link="RBShank"/>
      <child link="RBFoot_rx"/>
      <origin rpy="0 0 0" xyz="-0.0385 0.0344 -0.0907"/>
      <axis xyz="1 0 0"/>
      <limit effort="0" lower="-0.2" upper="0.2" velocity="1.0"/>
   </joint>
   <joint name="RBFoot_ry" type="revolute">
      <parent link="RBFoot_rx"/>
      <child link="RBFoot_ry"/>
      <origin rpy="0 0 0" xyz="0 0 0"/>
      <axis xyz="0 1 0"/>
      <limit effort="0" lower="-0.4" upper="0.4" velocity="1.0"/>
   </joint>
   <joint name="RBFoot_rz" type="revolute">
      <parent link="RBFoot_ry"/>
      <child link="RBFoot"/>
      <origin rpy="0 0 0" xyz="0 0 0"/>
      <axis xyz="0 0 1"/>
      <limit effort="0" lower="-0.2" upper="0.2" velocity="1.0"/>
   </joint>

 <!-- end-effector spheres -->
  <joint name="LFFootSphere" type="fixed">
      <parent link="LFFoot"/>
      <child link="LFFootSphere"/>
      <origin rpy="0 0 0" xyz="0.0724 -0.0430 -0.118"/> <!-- z - 0.002 -->
  </joint>
  <joint name="LMFootSphere" type="fixed">
      <parent link="LMFoot"/>
      <child link="LMFootSphere"/>
      <origin rpy="0 0 0" xyz="0.0925 0.0314 -0.1266"/>
  </joint>
  <joint name="LBFootSphere" type="fixed">
      <parent link="LBFoot"/>
      <child link="LBFootSphere"/>
      <origin rpy="0 0 0" xyz="0.0840 0.0771 -0.1303"/>
  </joint>
  <joint name="RFFootSphere" type="fixed">
      <parent link="RFFoot"/>
      <child link="RFFootSphere"/>
      <origin rpy="0 0 0" xyz="-0.0729 -0.0412 -0.1177"/>
  </joint>
  <joint name="RMFootSphere" type="fixed">
      <parent link="RMFoot"/>
      <child link="RMFootSphere"/>
      <origin rpy="0 0 0" xyz="-0.0923 0.0307 -0.1263"/>
  </joint>
  <joint name="RBFootSphere" type="fixed">
      <parent link="RBFoot"/>
      <child link="RBFootSphere"/>
      <origin rpy="0 0 0" xyz="-0.0852 0.0768 -0.1296"/>
  </joint>
</robot>
